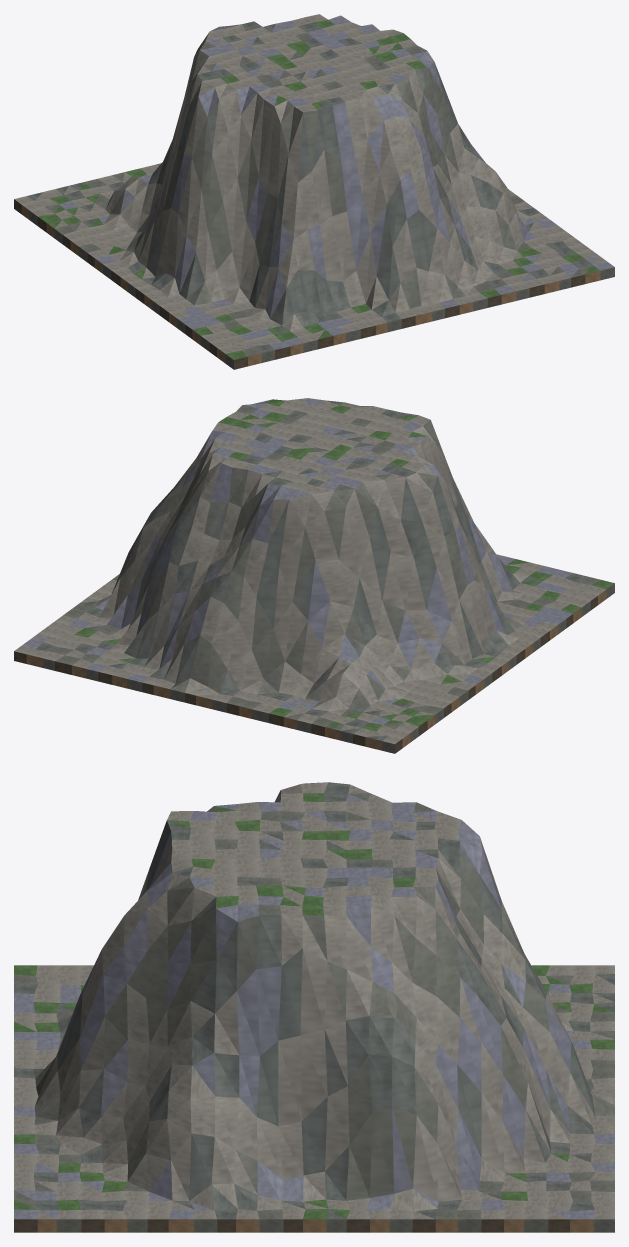
Rendered from mesa_flat.fbx.
3 renders of one model, top to bottom at view 1: azimuth 30°, elevation 25°; view 2: azimuth 150°, elevation 25°; view 3: azimuth 270°, elevation 25°, orthographic. The views are drawn at different scales.
Parts seen in each view (by area): view 1: mesa_flat; view 2: mesa_flat; view 3: mesa_flat.
Boxes of the visible parts, left/top/right/bottom form: mesa_flat: left=14, top=14, right=614, bottom=369; mesa_flat: left=14, top=398, right=614, bottom=753; mesa_flat: left=14, top=782, right=614, bottom=1232.
Bounding box in the file's own units: 4000 × 1850 × 4000.
1 material, 1 textured.
